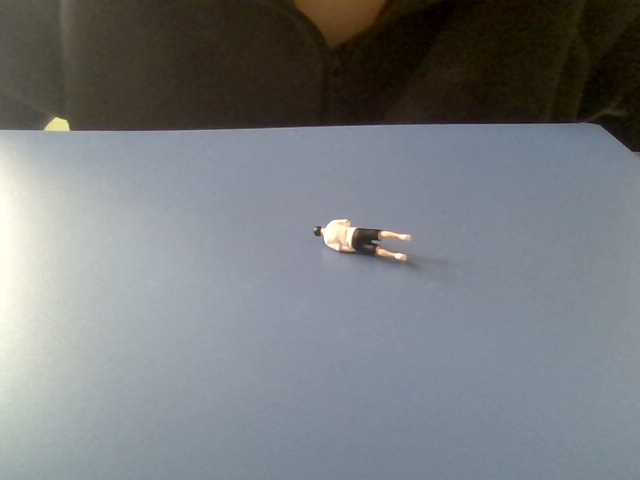fall: (310, 211, 415, 264)
